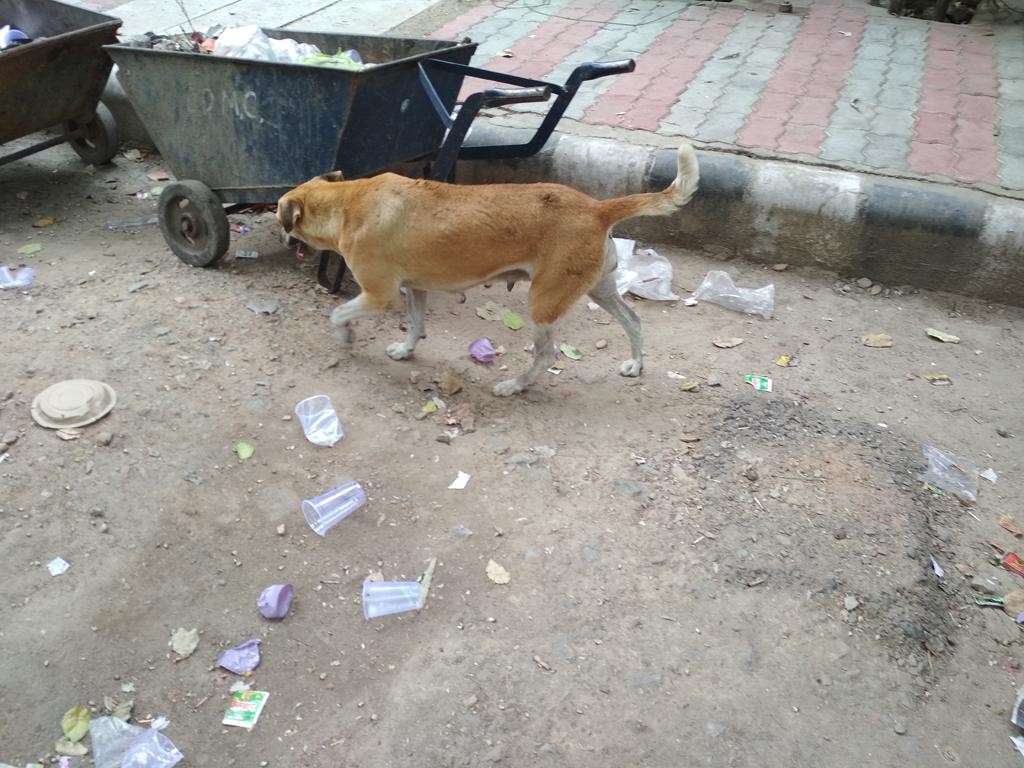dog: (275, 141, 699, 397)
